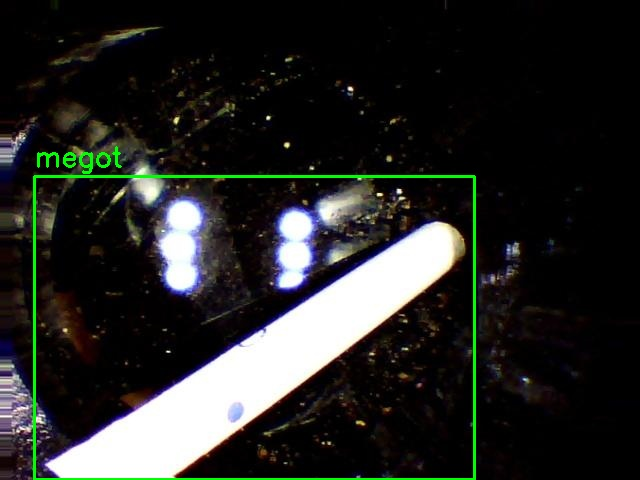megot: (34, 176, 474, 479)
